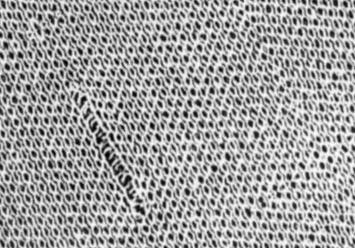slub: (65, 73, 154, 222)
